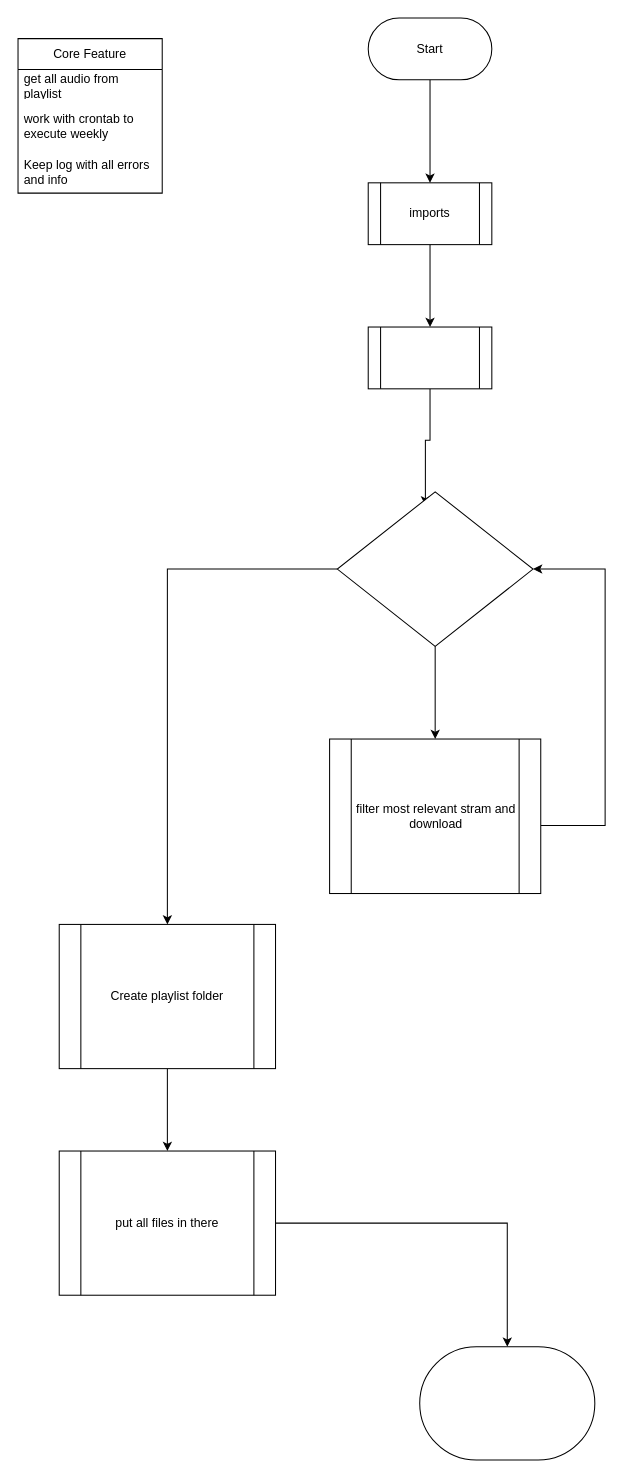
The diagram is 631 pixels wide and 1478 high, and some of its shapes have lost their labels. Here are the shapes that lost their labels. From the top down, the centre of each, then its label:
At [429,357]: "Intantiate Youtube playlist with url".
At [434,568]: "for video in playlist.videos".
At [507,1403]: "End".
